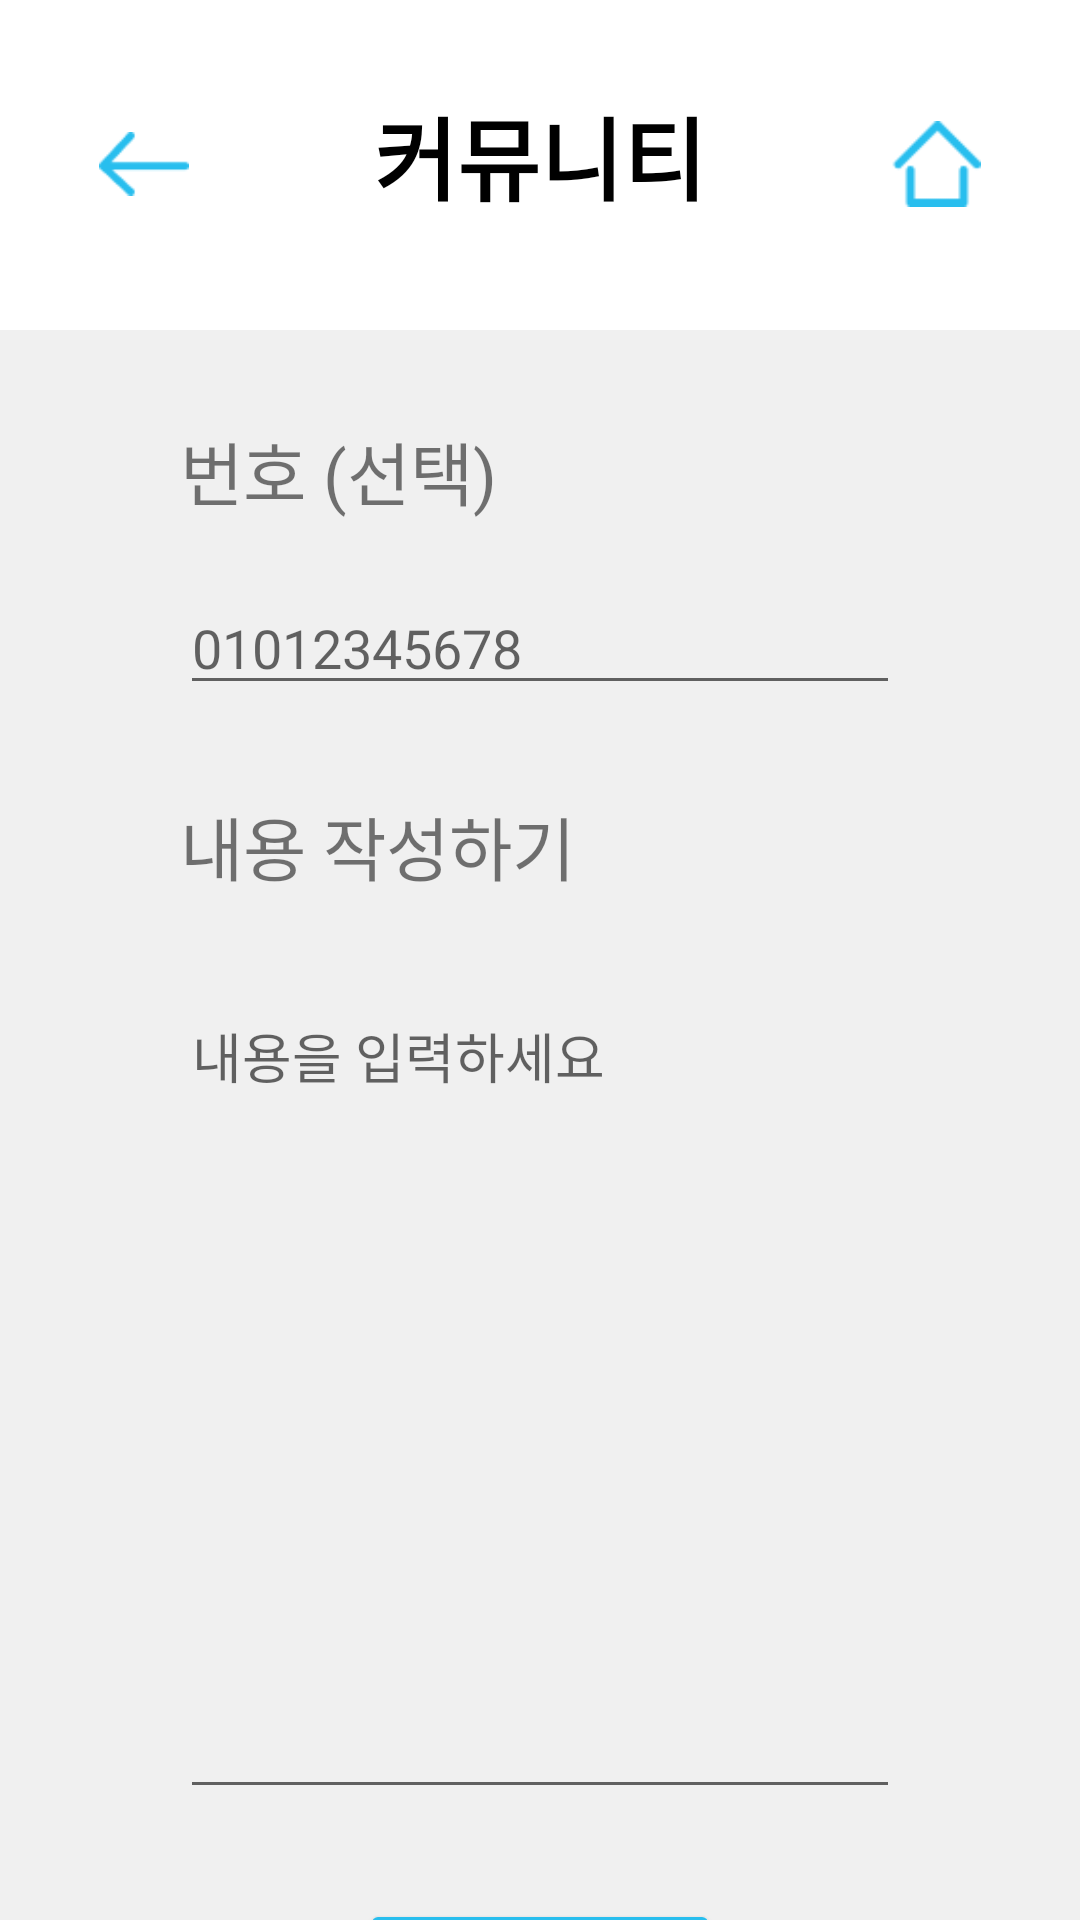

Named icons in this screenshot (1080px×1920px) and their bounding boxes, (x1, y1, x2, y2):
backbtn: (99, 132, 189, 196)
homebtn: (893, 121, 981, 207)
